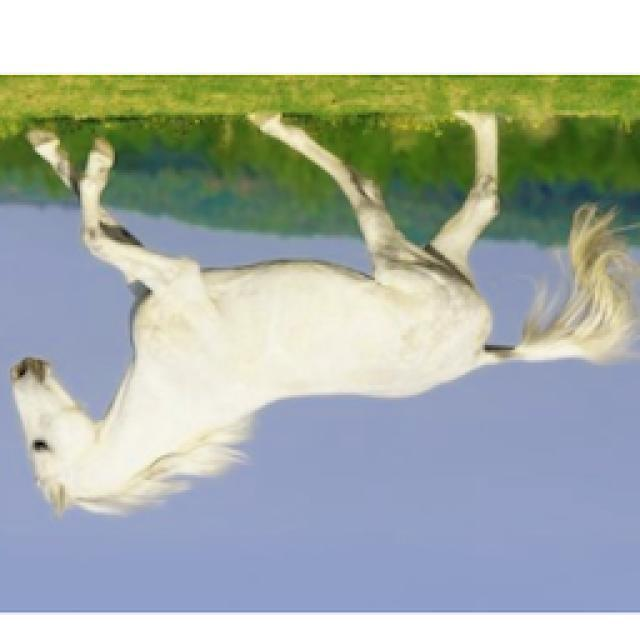Horse: (2, 105, 640, 525)
